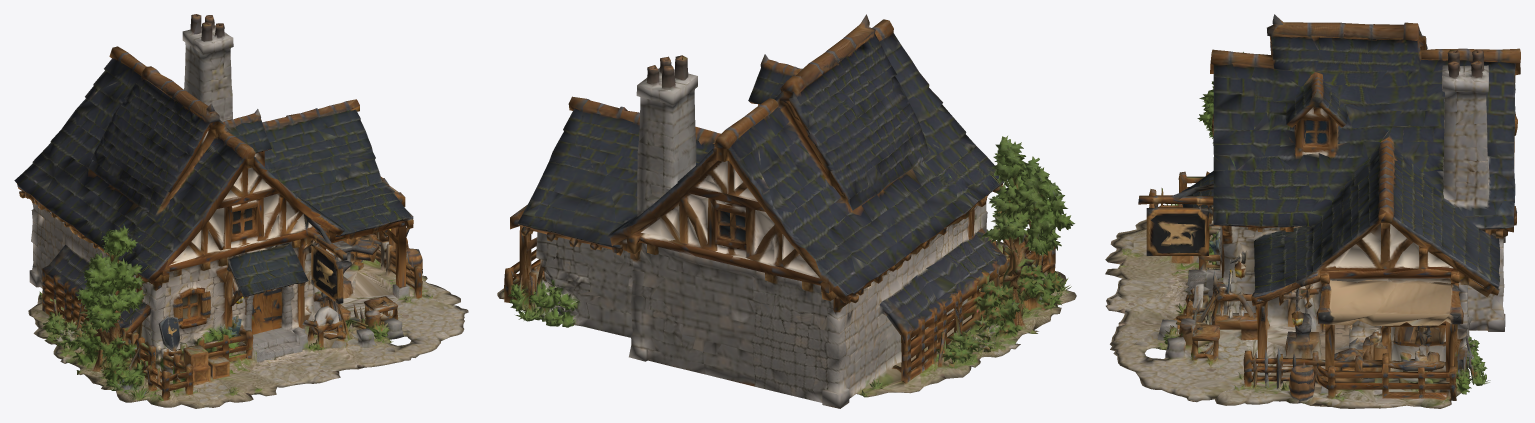
Rendered from blacksmith_lod0.glb.
The picture shows the model from 3 angles, left to right: view 1: azimuth 30°, elevation 25°; view 2: azimuth 150°, elevation 25°; view 3: azimuth 270°, elevation 25°; orthographic projection. The views are drawn at different scales.
Parts seen in each view (by area): view 1: Mesh_0; view 2: Mesh_0; view 3: Mesh_0.
Part boxes in pixels (<box>): Mesh_0: <box>14,14,468,408</box>; Mesh_0: <box>497,14,1076,408</box>; Mesh_0: <box>1105,14,1520,408</box>.
Bounding box in the file's own units: 1.89 × 1.14 × 1.58.
Materials: 1 (1 with a texture image).
